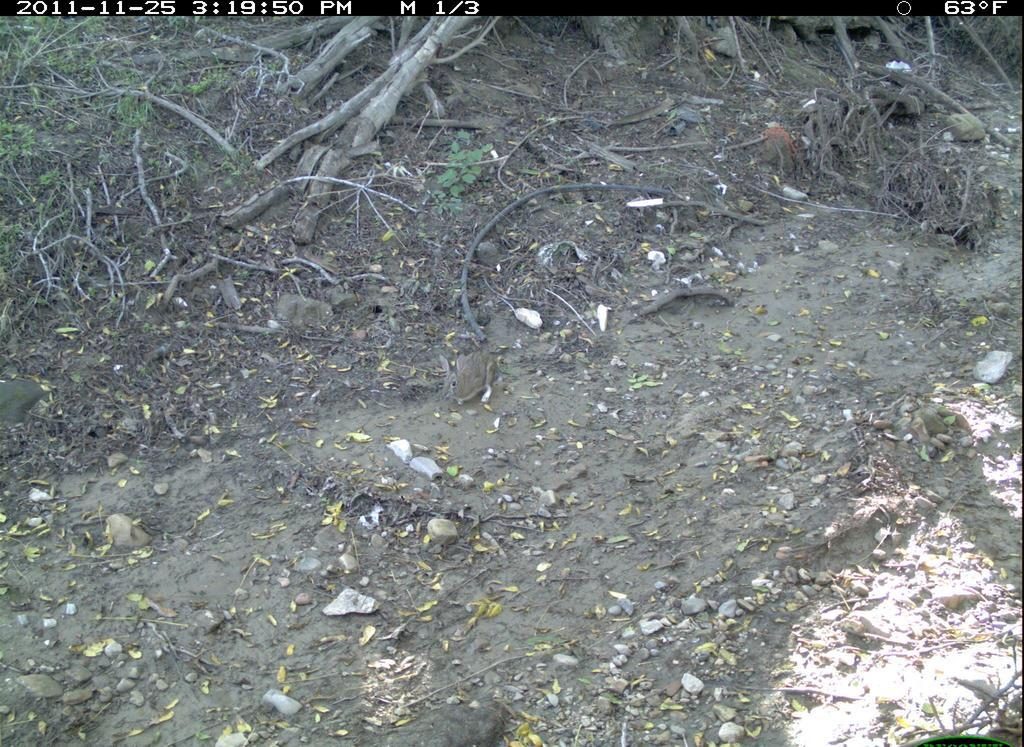rabbit: (431, 337, 514, 420)
